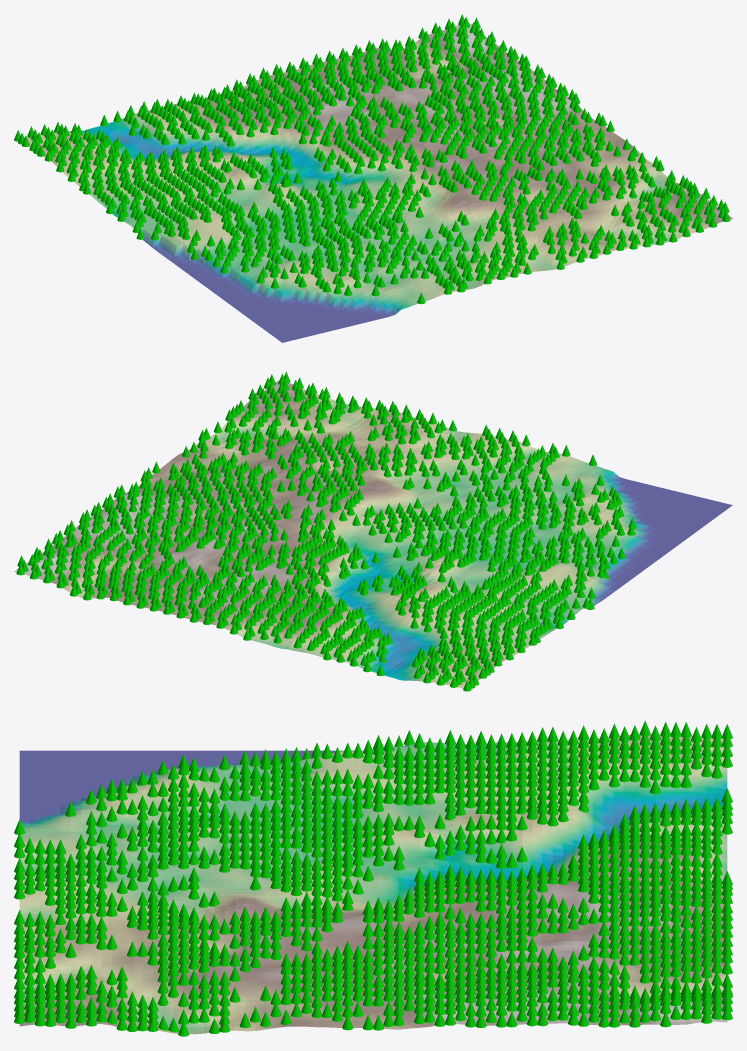
File: 003719_with_tree.glb
The picture shows the model from 3 angles, top to bottom: view 1: azimuth 30°, elevation 25°; view 2: azimuth 150°, elevation 25°; view 3: azimuth 270°, elevation 25°; orthographic projection. The views are drawn at different scales.
Parts seen in each view (by area): view 1: trees, terrain; view 2: trees, terrain; view 3: trees, terrain.
Boxes of the visible parts, x1,y1,x2,y2 form: trees: (14,14,730,304); terrain: (27,23,732,342); trees: (16,372,636,691); terrain: (14,380,732,688); trees: (14,720,732,1036); terrain: (19,734,727,1034).
Size of the model in its own units: 0.0186 by 0.00111 by 0.0189.
